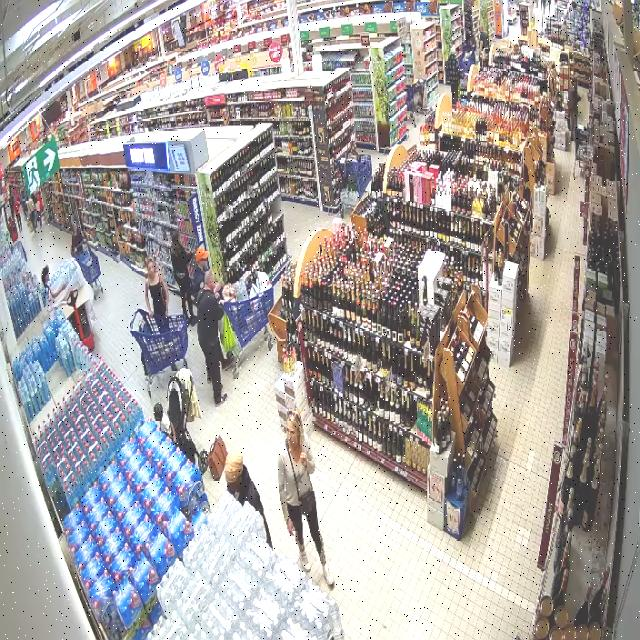bags: (287, 443, 316, 515), (208, 437, 227, 480), (222, 314, 236, 355)
hands: (287, 518, 294, 536), (300, 452, 308, 466)
person: (277, 411, 333, 586), (225, 451, 272, 547), (198, 269, 226, 406), (147, 257, 167, 317)
